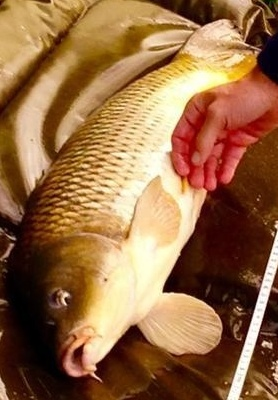Cyprinus carpio: (20, 20, 258, 380)
